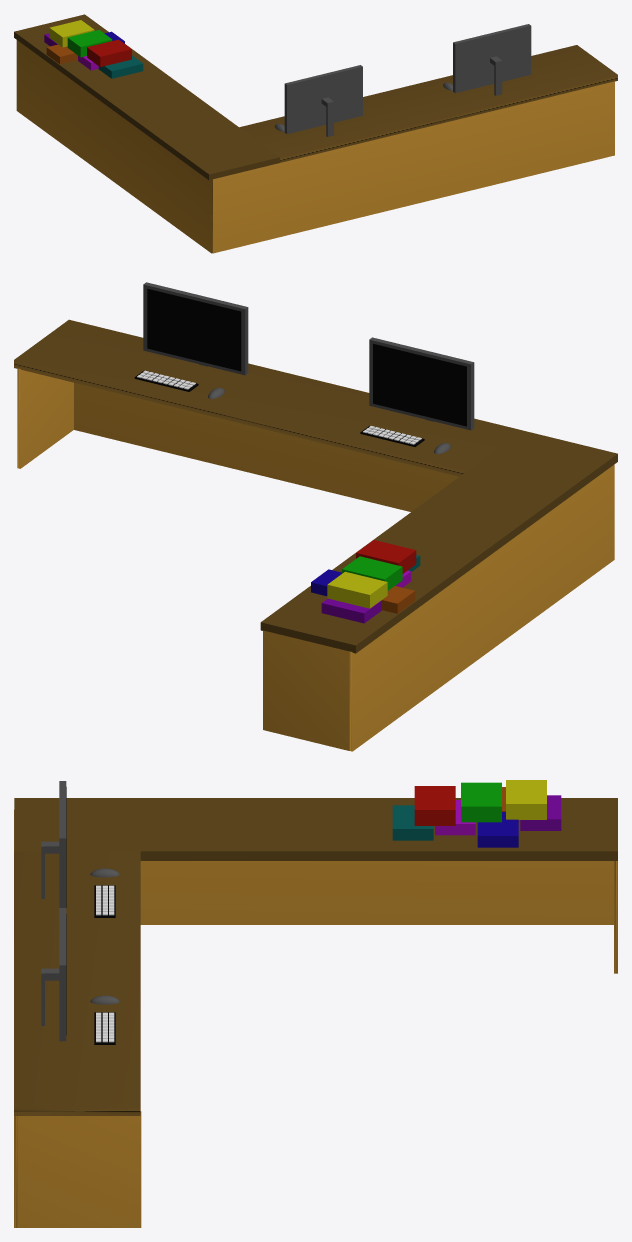
Rendered from desk.glb.
The picture shows the model from 3 angles, top to bottom: view 1: azimuth 30°, elevation 25°; view 2: azimuth 150°, elevation 25°; view 3: azimuth 270°, elevation 25°; orthographic projection. The views are drawn at different scales.
Parts seen in each view (by area): view 1: Cube.002, Cube.003, Cube.001, Cube, Cube.008, Cube.081, Cube.043, Cube.047, Cube.048, Cube.041, Cube.045; view 2: Cube.003, Cube.001, Cube, Cube.002, Cube.005, Cube.083, Cube.006, Cube.004, Cube.081, Cube.008, Cube.048, Cube.043 (+3 smaller); view 3: Cube.001, Cube.003, Cube, Cube.004, Cube.047, Cube.043, Cube.048, Cube.044, Cube.041, Cube.081, Cube.008, Cube.046 (+1 smaller).
Part boxes in pixels (x1,y1,x2,y2): Cube.002: (213,81,614,253); Cube.003: (16,40,212,253); Cube.001: (239,45,617,162); Cube: (14,14,279,180); Cube.008: (284,65,362,134); Cube.081: (453,24,531,93); Cube.043: (87,39,131,67); Cube.047: (67,30,112,57); Cube.048: (49,20,94,47); Cube.041: (98,55,143,78); Cube.045: (46,44,77,64); Cube.003: (349,464,614,751); Cube.001: (14,319,522,476); Cube: (260,430,617,653); Cube.002: (74,382,458,511); Cube.005: (263,630,349,750); Cube.083: (147,288,241,371); Cube.006: (373,343,466,426); Cube.004: (17,368,73,468); Cube.081: (143,282,248,375); Cube.008: (369,337,474,430); Cube.048: (327,571,387,608); Cube.043: (356,540,416,573); Cube.001: (14,851,140,1115); Cube.003: (140,861,613,924); Cube: (14,798,617,860); Cube.004: (18,1111,141,1227); Cube.047: (461,782,501,822); Cube.043: (414,786,455,825); Cube.048: (506,780,546,819); Cube.044: (477,812,518,847); Cube.041: (392,805,433,840); Cube.081: (59,908,66,1041); Cube.008: (59,781,66,907); Cube.046: (520,795,561,830).
Bounding box in the file's own units: 19.2 × 6.11 × 15.88.
